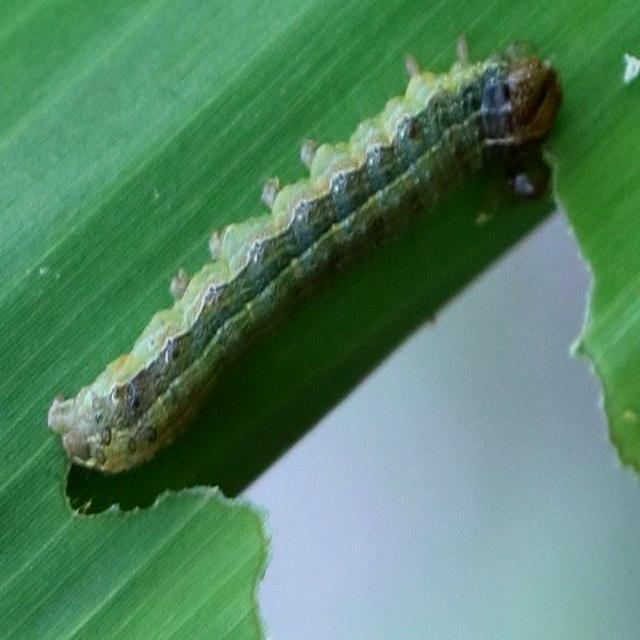gusano_cogollero: (45, 35, 557, 473)
